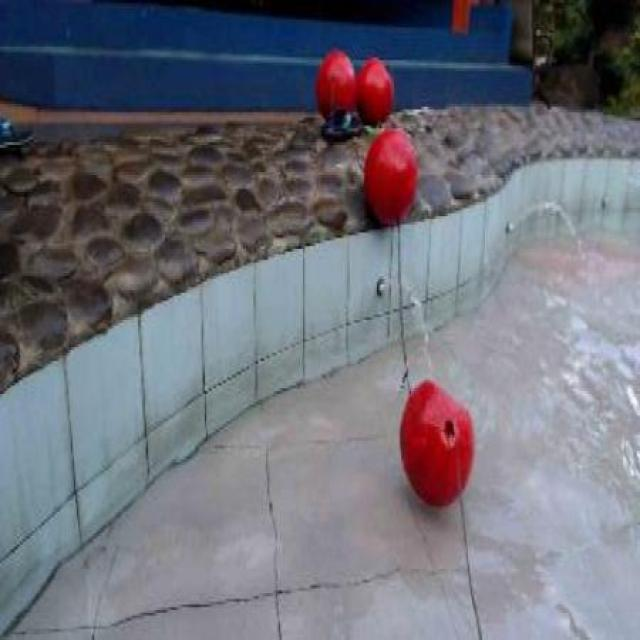buoy: (398, 379, 475, 507), (362, 127, 416, 223), (315, 49, 356, 120), (354, 59, 394, 127)
